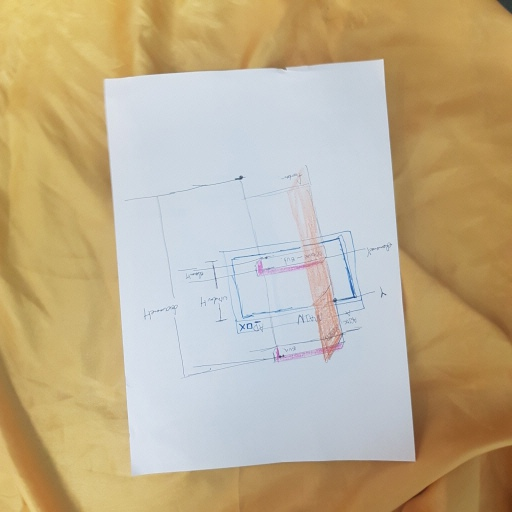Paper_2: (99, 60, 425, 483)
